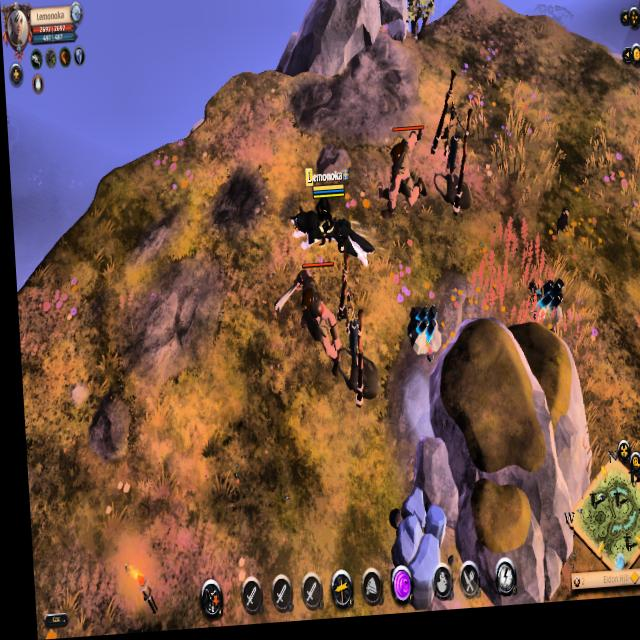ore tier 4: (401, 304, 439, 368), (526, 278, 564, 342)
rock tier 4: (380, 490, 449, 619)
